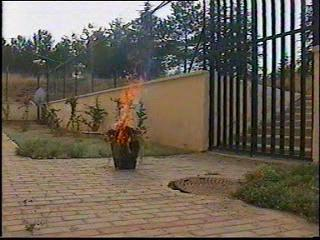fire: (115, 75, 143, 133)
